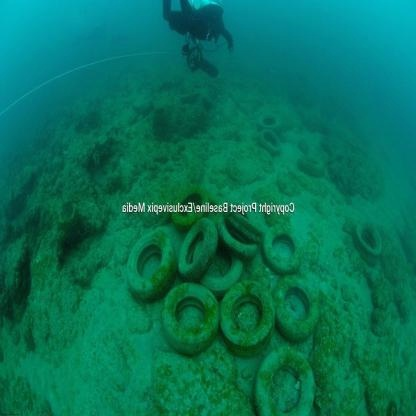tire: (251, 337, 316, 416), (158, 283, 221, 356), (215, 278, 275, 354), (121, 228, 176, 298), (268, 273, 320, 338), (214, 204, 263, 259), (258, 217, 306, 270), (177, 219, 217, 276), (348, 219, 387, 264), (164, 182, 210, 218), (202, 254, 244, 289), (295, 146, 331, 177), (255, 129, 287, 154), (253, 108, 276, 128)
